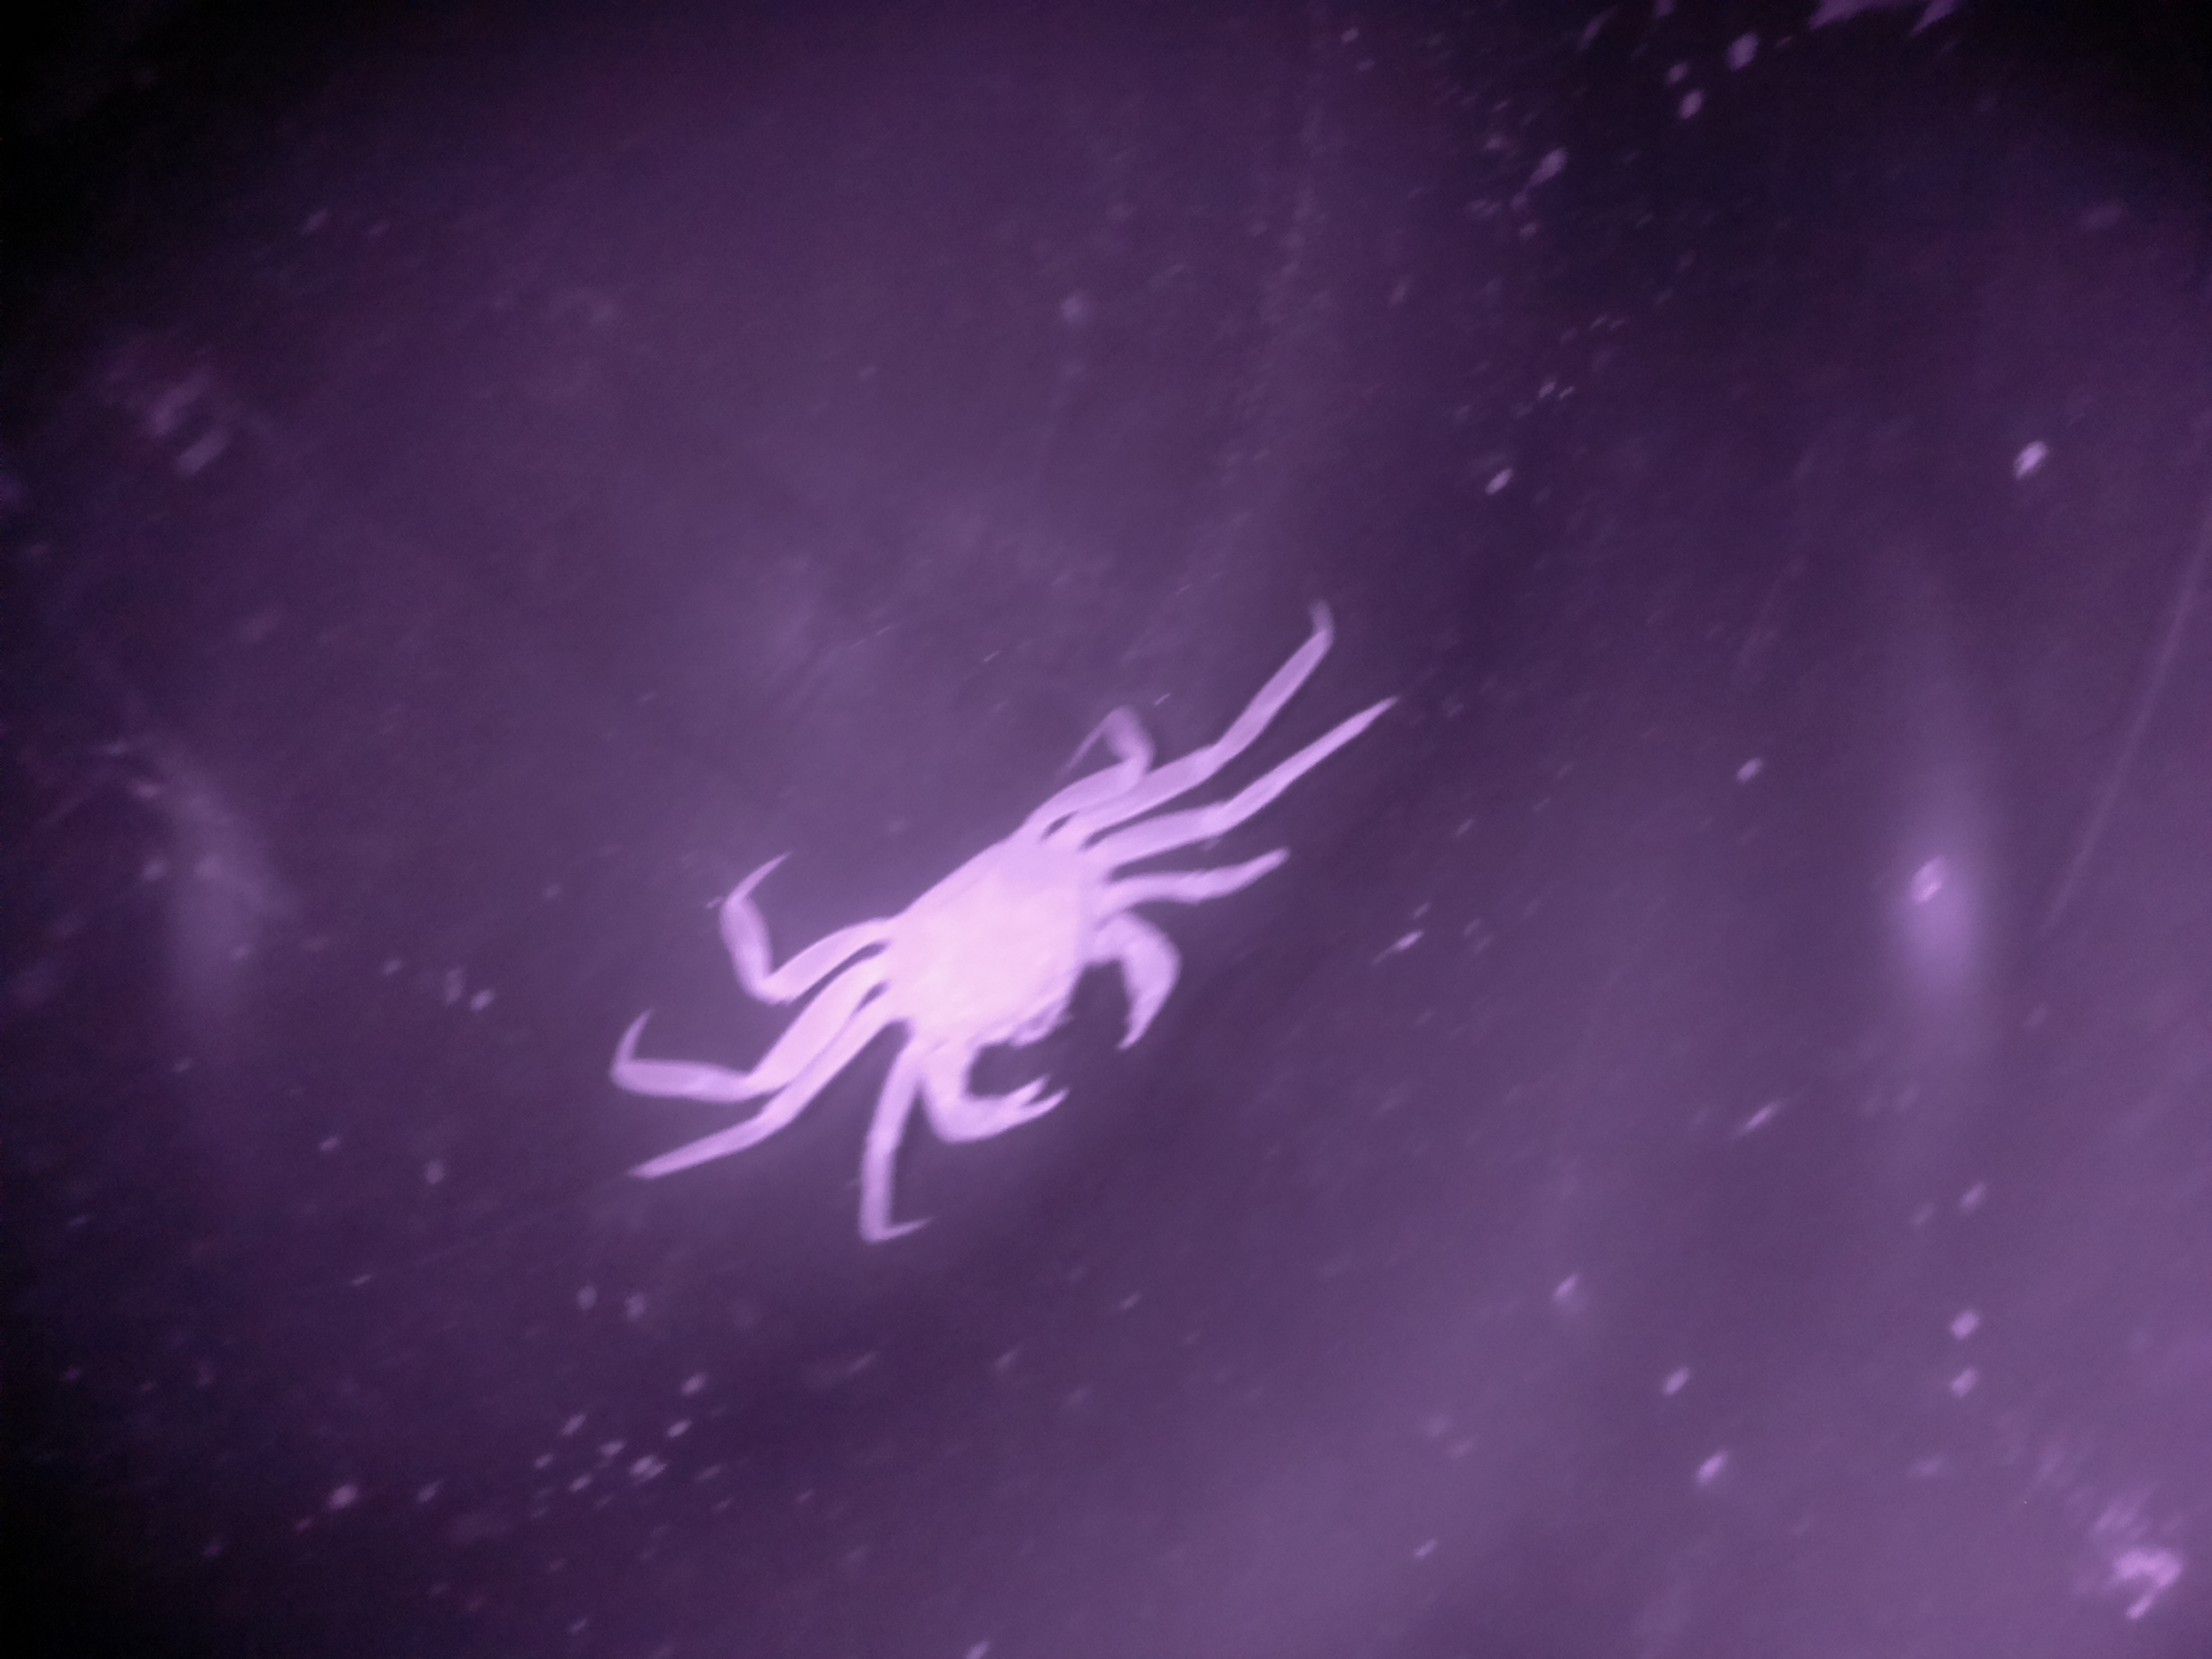Crab: (655, 572, 1366, 1276)
